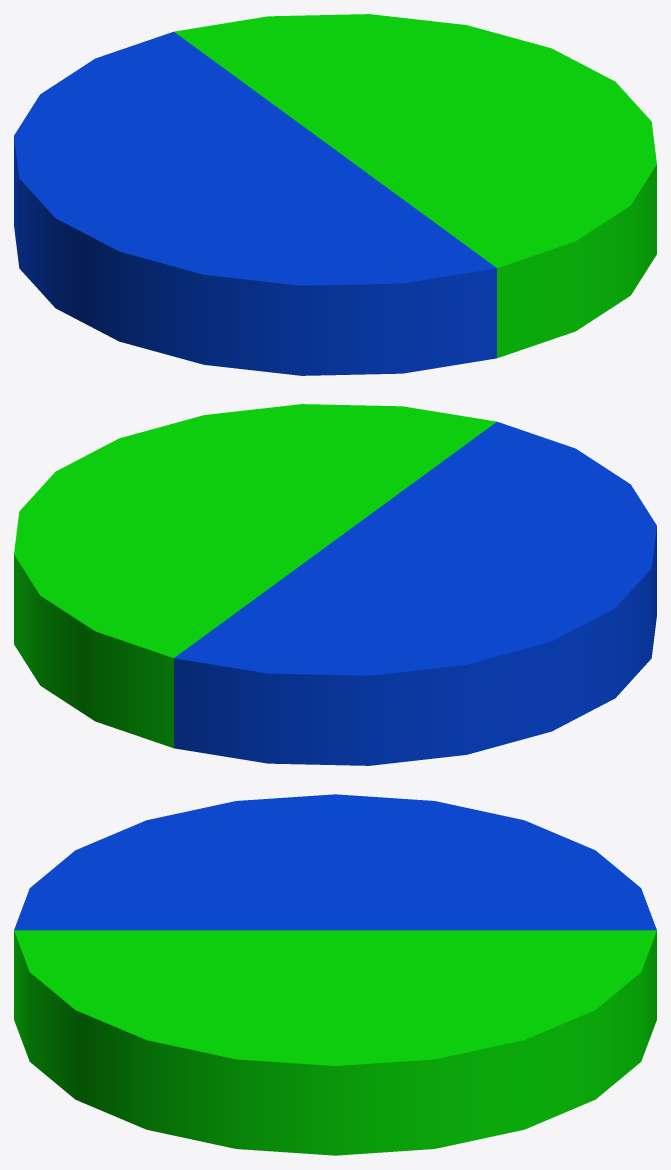
File: 2_renk_mavi_yesil.fbx
3 renders of one model, top to bottom at view 1: azimuth 30°, elevation 25°; view 2: azimuth 150°, elevation 25°; view 3: azimuth 270°, elevation 25°, orthographic.
Parts seen in each view (by area): view 1: pCylinder11; view 2: pCylinder11; view 3: pCylinder11.
Boxes of the visible parts, <box> form: pCylinder11: <box>14,14,656,375</box>; pCylinder11: <box>14,404,656,765</box>; pCylinder11: <box>14,794,656,1155</box>.
Bounding box in the file's own units: 6.28 × 0.9651 × 6.28.
